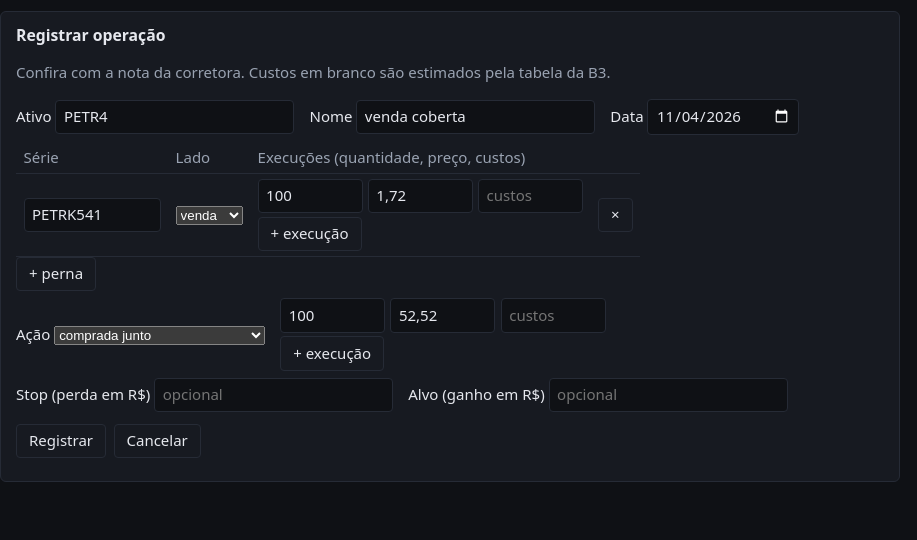
Scenario: o erro de regra da API aparece no formulário
Click the button "Registrar" at (61, 441), box [16,424,106,458]
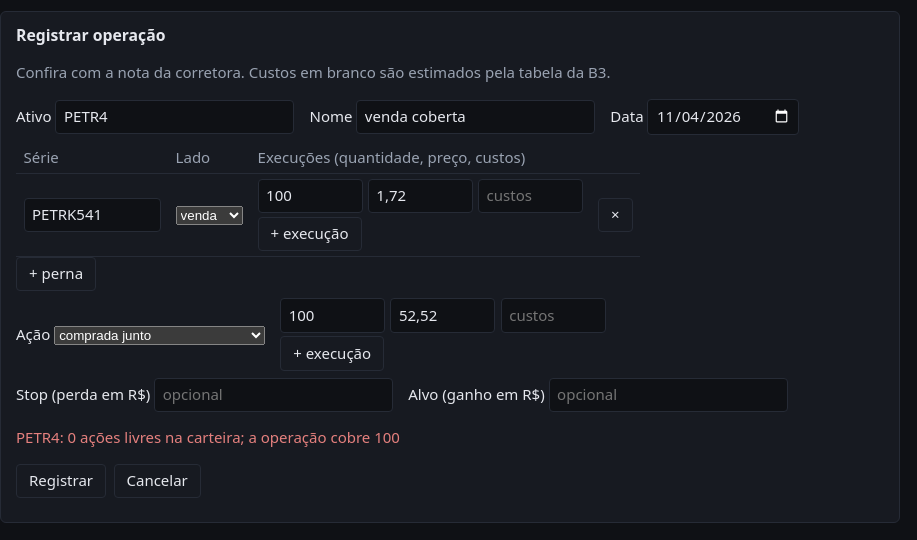
Result: the message shows "0 ações livres" at [16,427,400,447]
